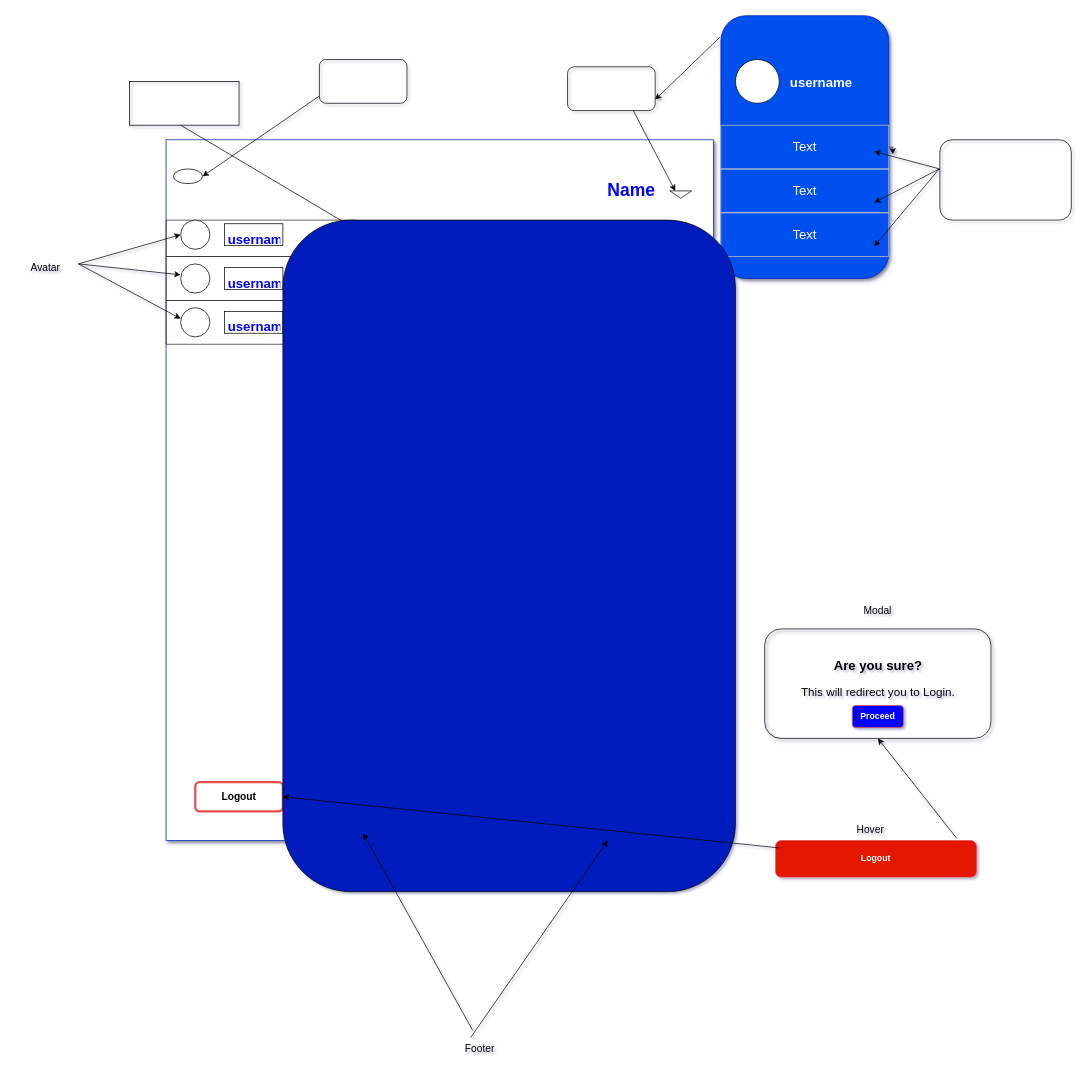
The diagram is 1088 pixels wide and 1077 high, and some of its shapes have lost their labels. Each missing label, with the centre of its shape:
Dropdown menu: pixel 611 88
HOVER EFFECTS White BG / Dark Fonts: pixel 1005 179
Logo: pixel 363 81
must be rounded edge: pixel 184 103
